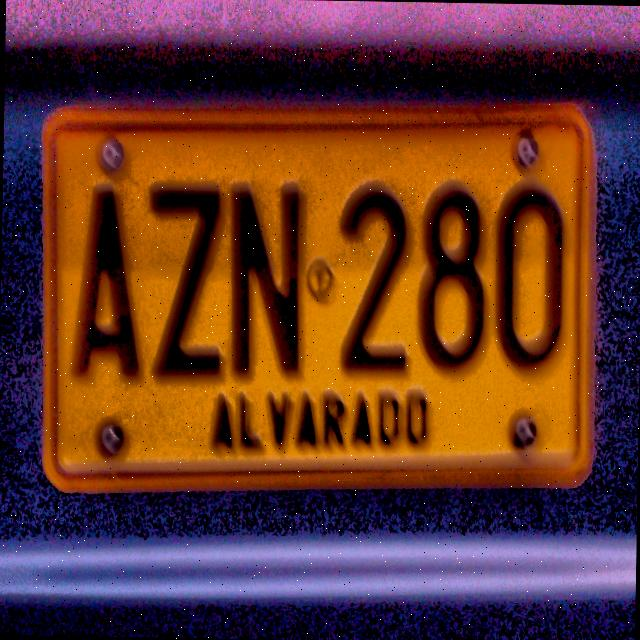plate: (48, 112, 586, 478)
